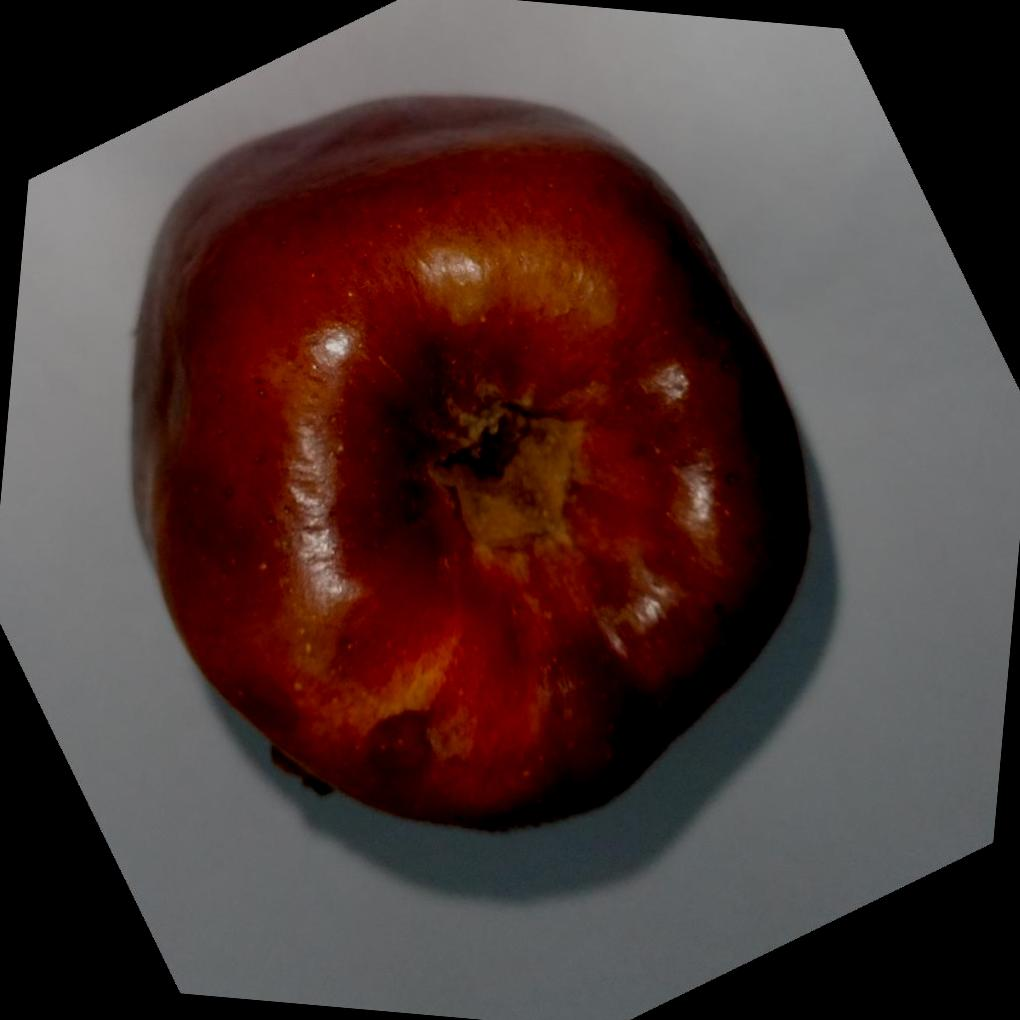FreshOrange: (131, 91, 813, 831)
